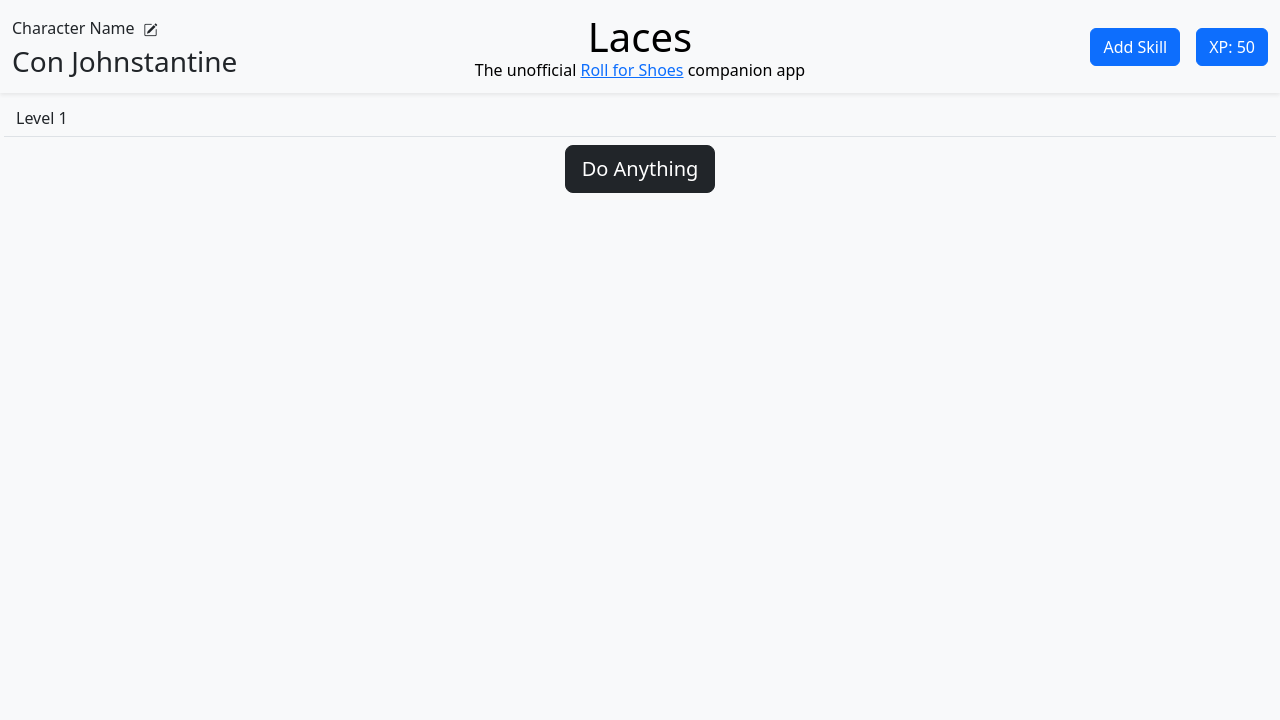
App › render the NewSkillModal
Click the button "Add Skill" at [1135, 47], box [1090, 28, 1180, 66]
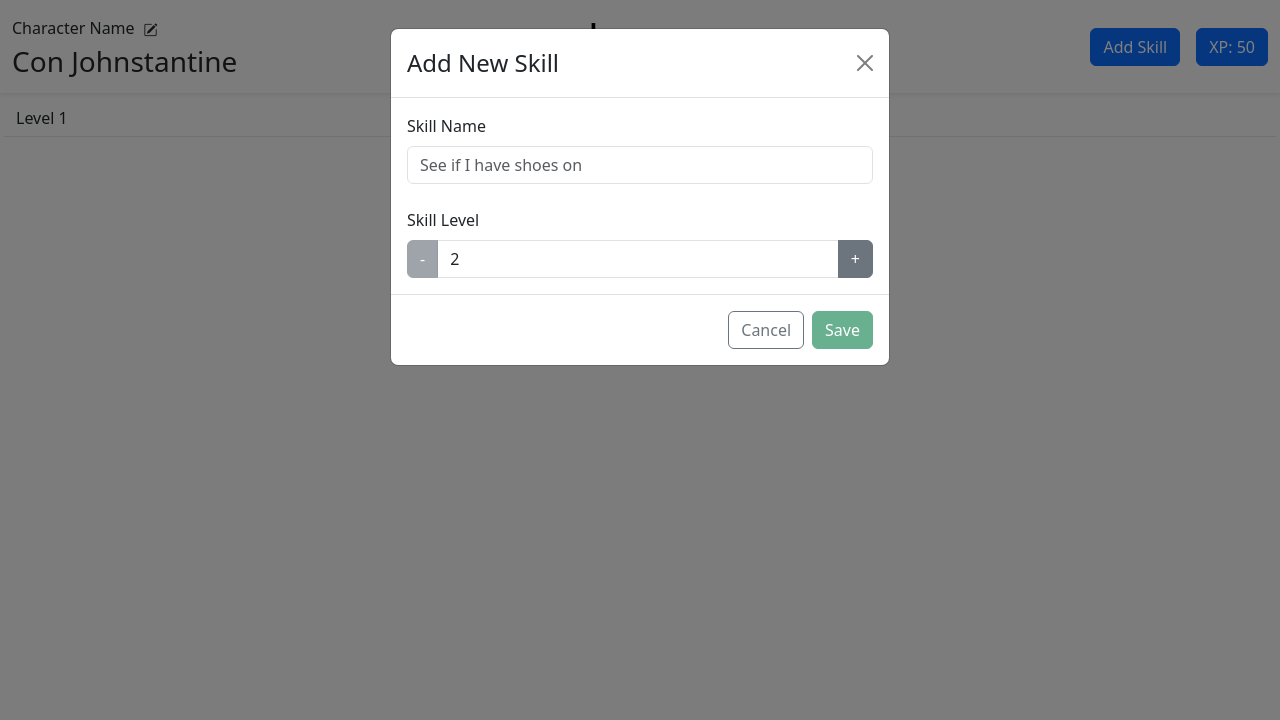
Expected: the dialog "Add New Skill" is shown, [390, 28, 890, 366]
Click the button named "Close" at [865, 63], box [849, 47, 881, 79]
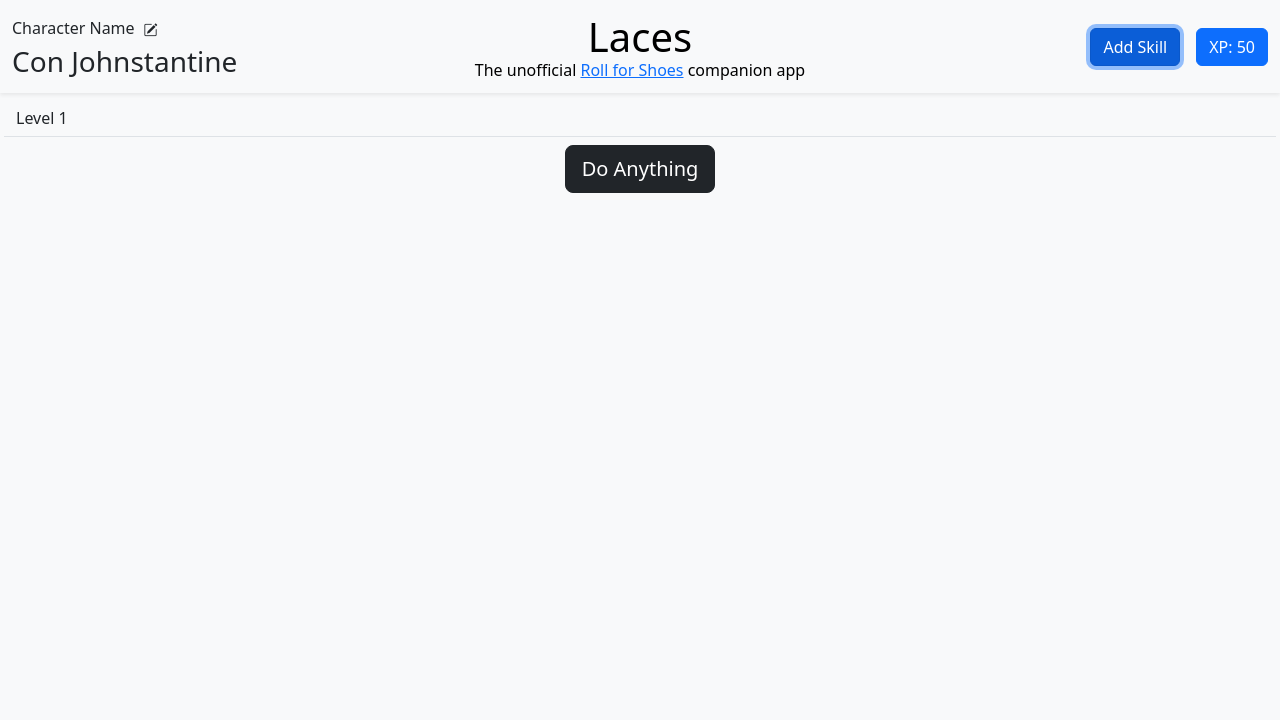
Expected: the text "Add New Skill" is gone
